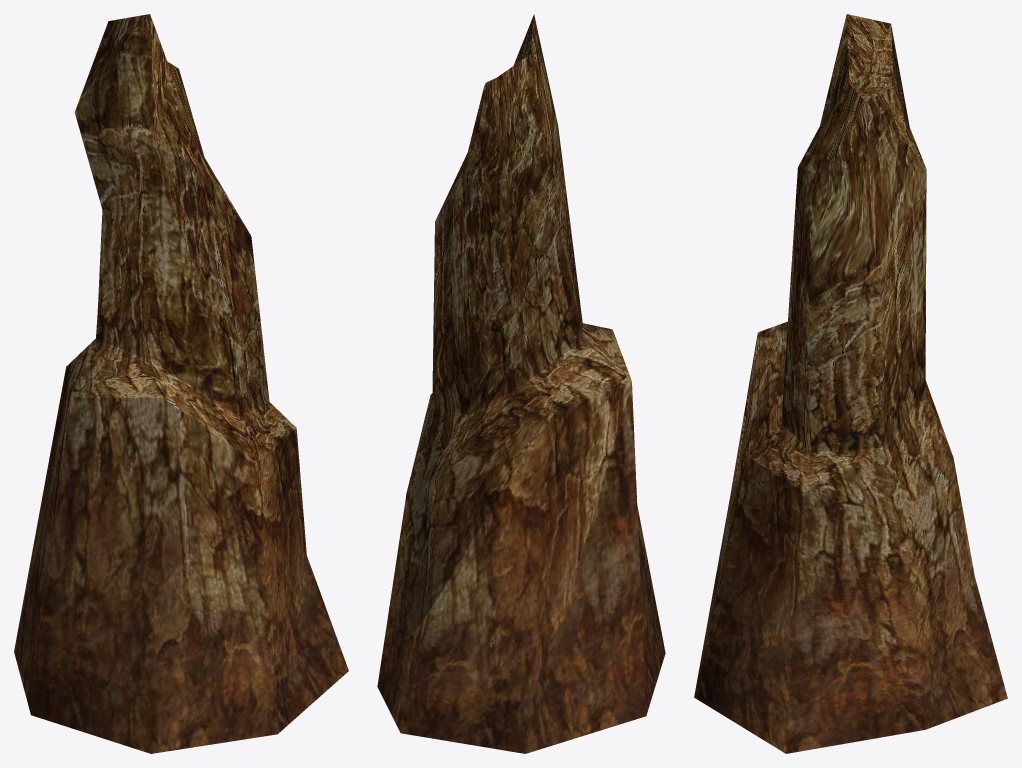
File: hr_rock3.glb
The picture shows the model from 3 angles, left to right: view 1: azimuth 30°, elevation 25°; view 2: azimuth 150°, elevation 25°; view 3: azimuth 270°, elevation 25°; orthographic projection. The views are drawn at different scales.
Visible parts, largest first — view 1: hr_rock3; view 2: hr_rock3; view 3: hr_rock3.
Part boxes in pixels (bbox=[...]): hr_rock3: bbox=[14, 14, 348, 753]; hr_rock3: bbox=[377, 14, 665, 753]; hr_rock3: bbox=[694, 14, 1007, 753].
Bounding box in the file's own units: 5.89 × 13.38 × 5.77.
2 materials, 2 textured.
